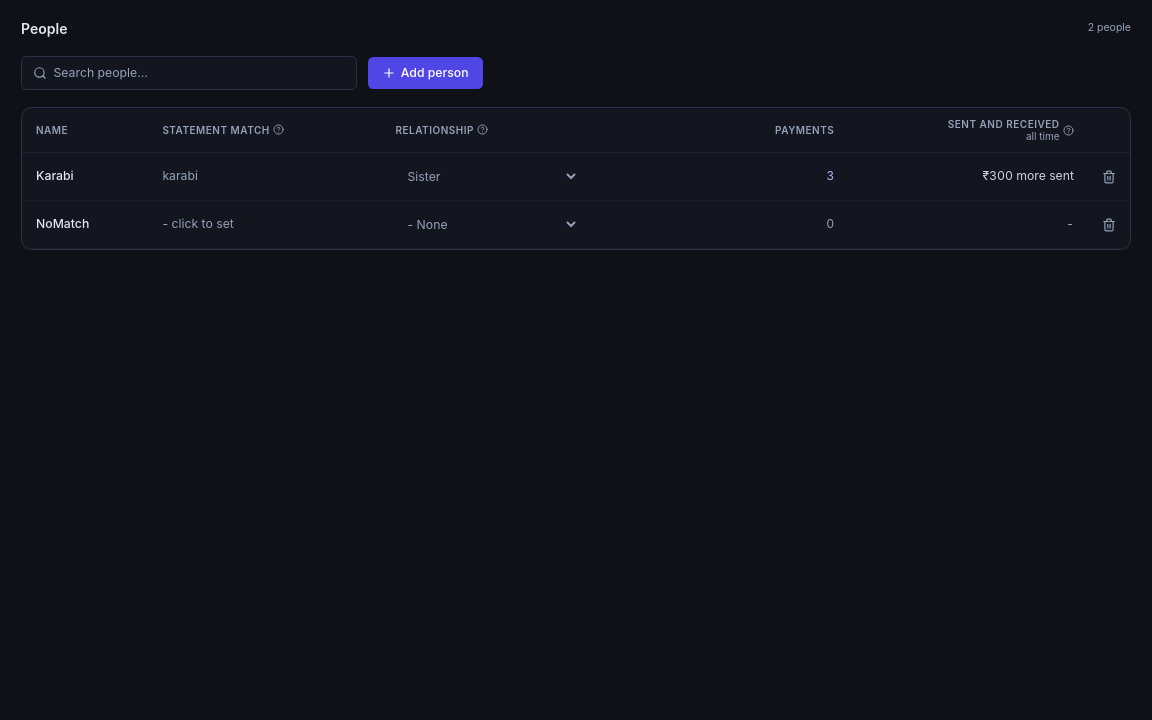
it: People duplicates › shows the refusal inside the add dialog and keeps it open
Check: the text "Karabi" is shown, box [22,152,148,200]
Click the button "Add person" at (425, 73), box [368,57,483,88]
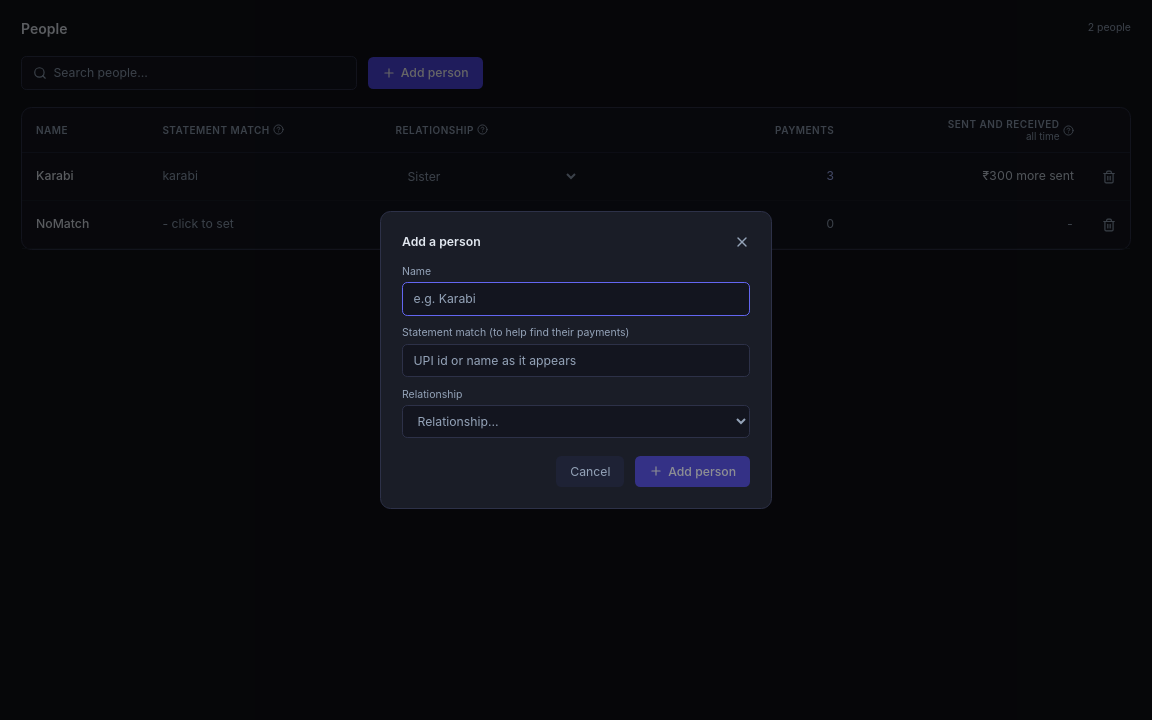
Type "Karabi" into the field with placeholder "e.g. Karabi" at (576, 299), box [402,282,750,316]
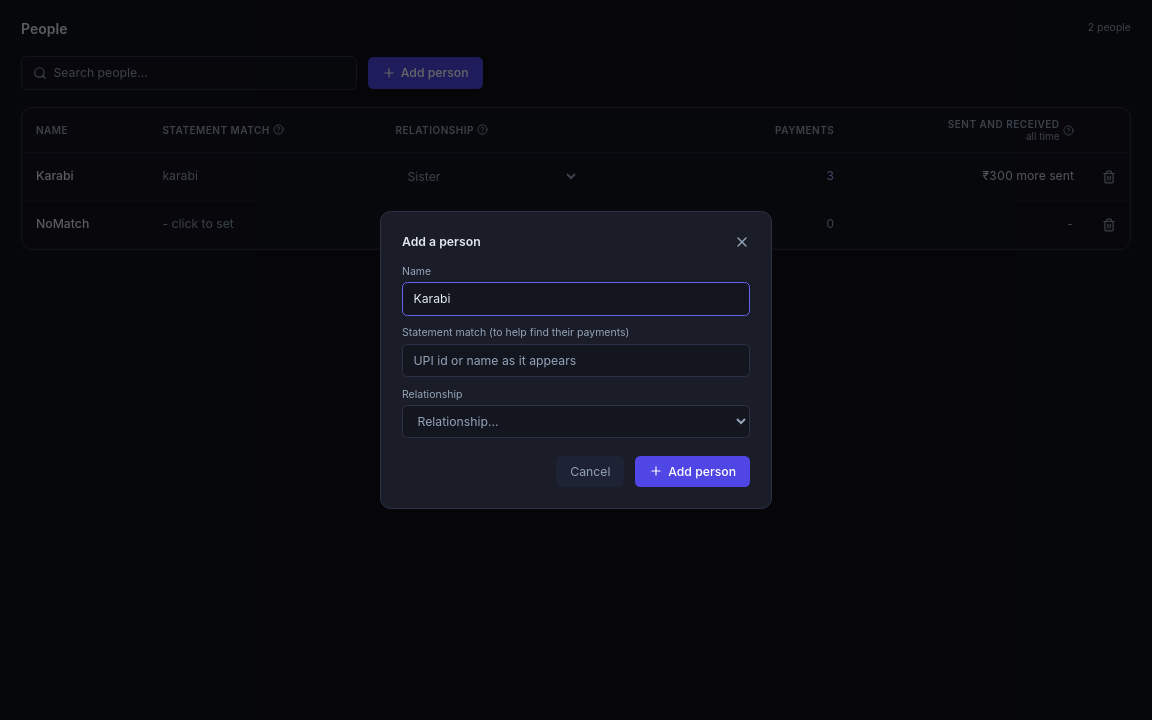
Type "karabi" into the field with placeholder "UPI id or name as it appears" at (576, 360), box [402,344,750,377]
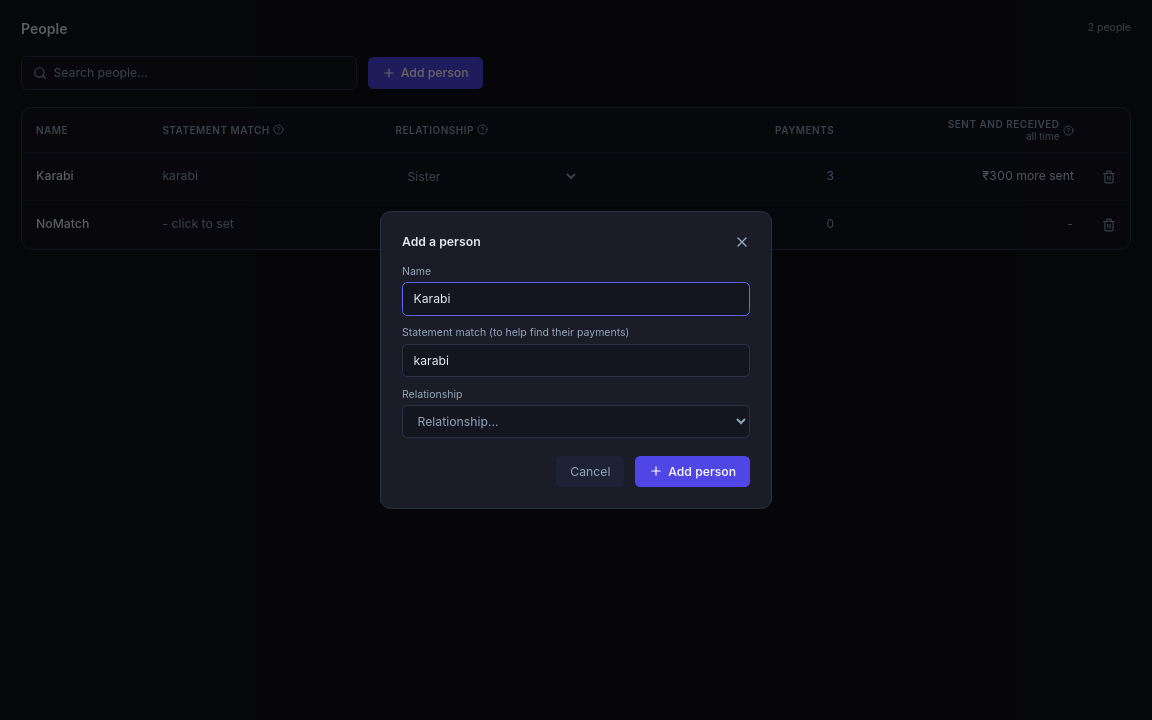
Click the button "Add person" at (692, 471), box [635,456,750,487]
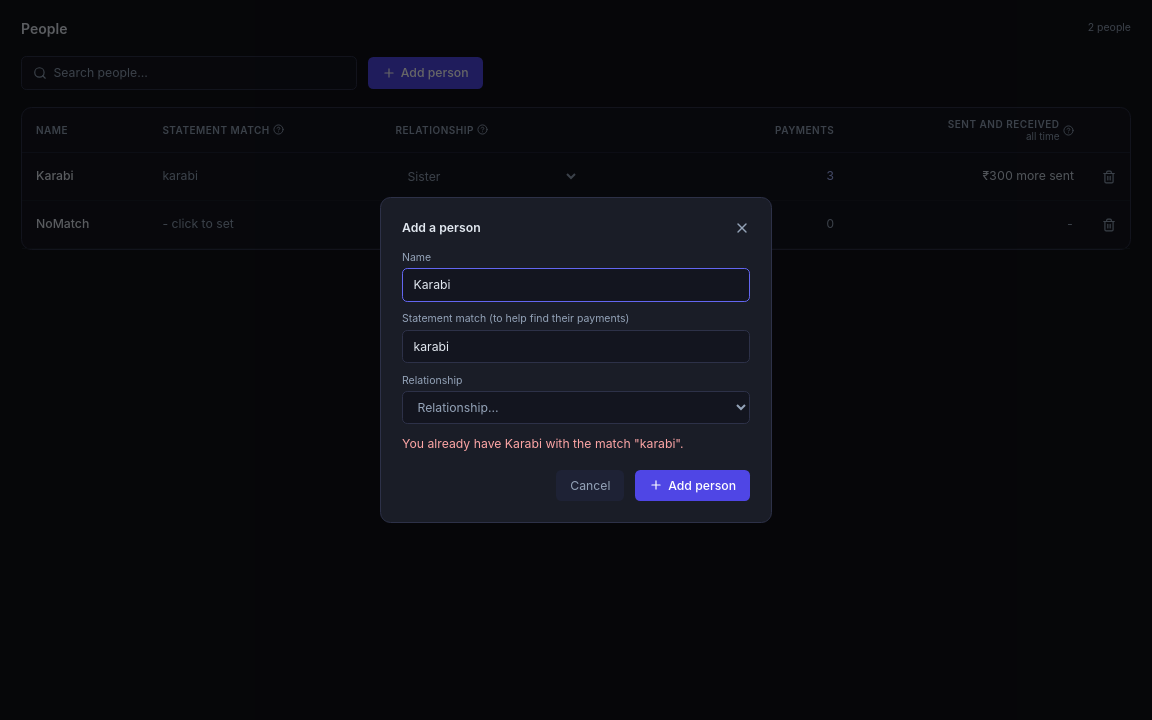
Check: the dialog "Add a person" is shown, box [380,197,772,523]
Check: the message reads "You already have Karabi with the match \"karabi\".", box [402,436,684,450]
Typing again clears the message.
Replace the text in the 1st field with placeholder "e.g. Karabi" with "Karabi B" at (576, 285), box [402,268,750,302]
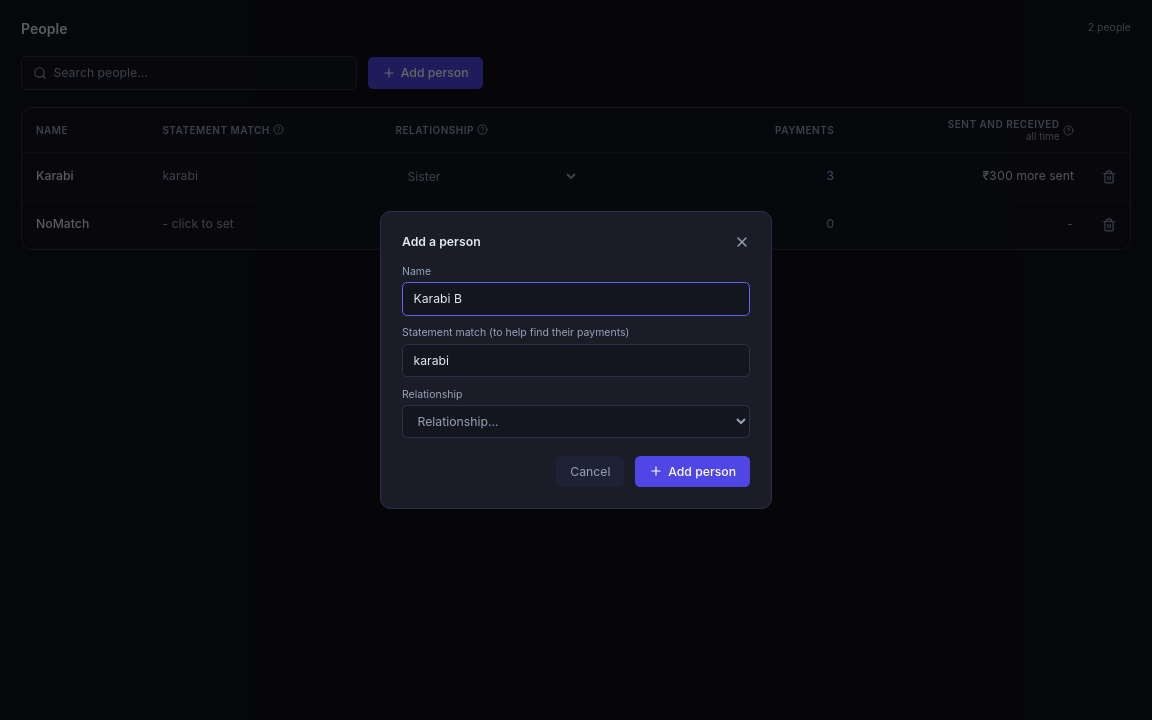
Check: the message "You already have Karabi with the match \"karabi\"." is gone
